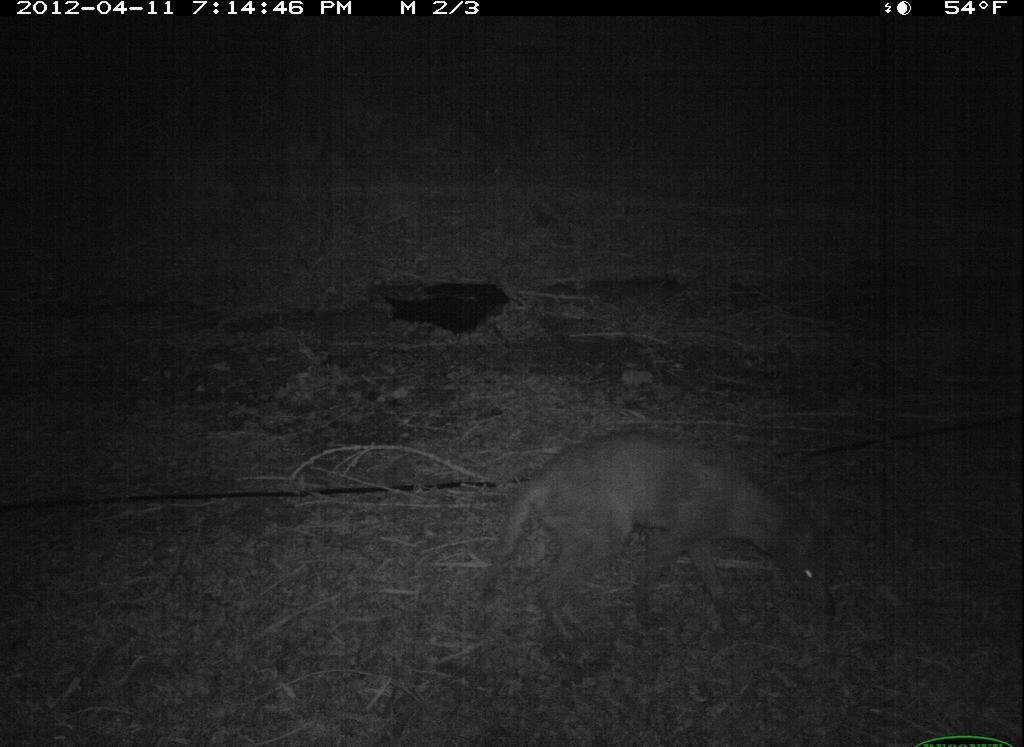coyote: (477, 404, 857, 690)
